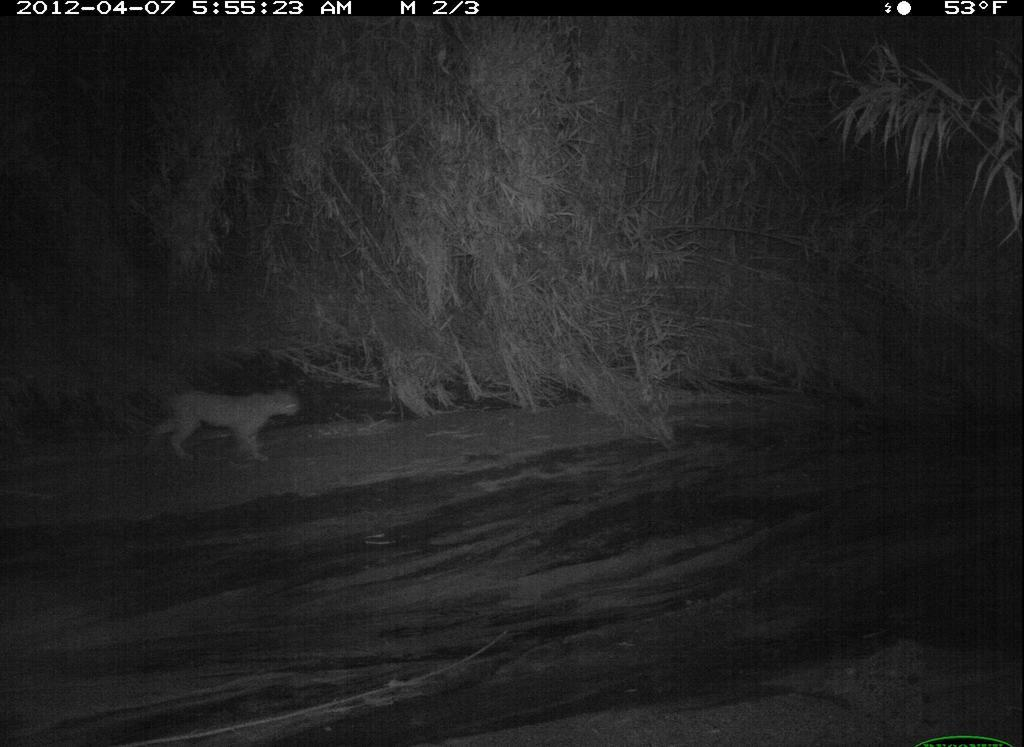bobcat: (146, 363, 317, 473)
